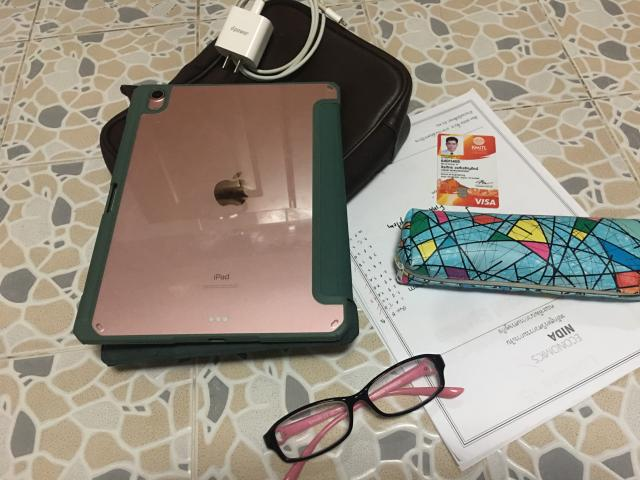Glasses: (264, 354, 462, 479)
paper: (280, 90, 640, 469)
wire: (215, 0, 346, 81)
